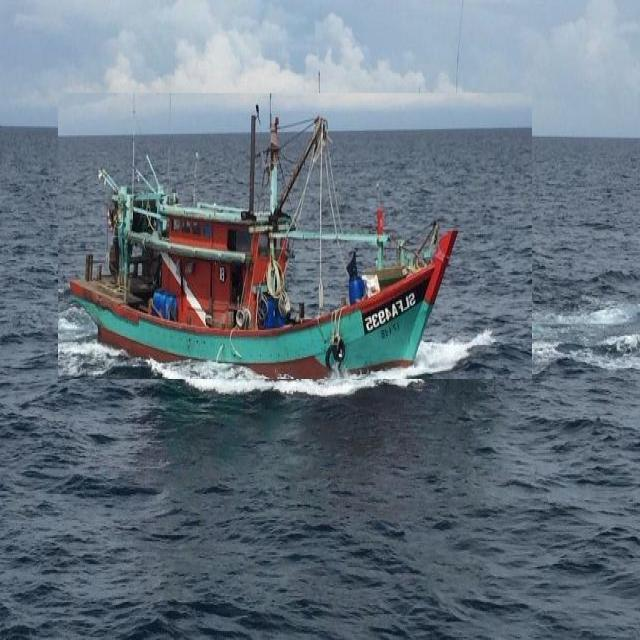Fishing Boat: (58, 93, 532, 379)
